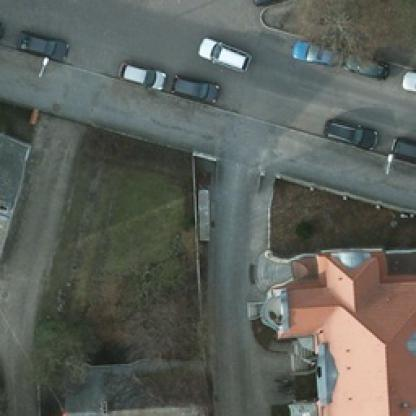car: (196, 28, 254, 70), (170, 66, 218, 108), (16, 27, 67, 62), (114, 60, 166, 90), (325, 118, 377, 142), (286, 37, 335, 62), (343, 52, 387, 75), (250, 0, 299, 10), (0, 12, 3, 38)
